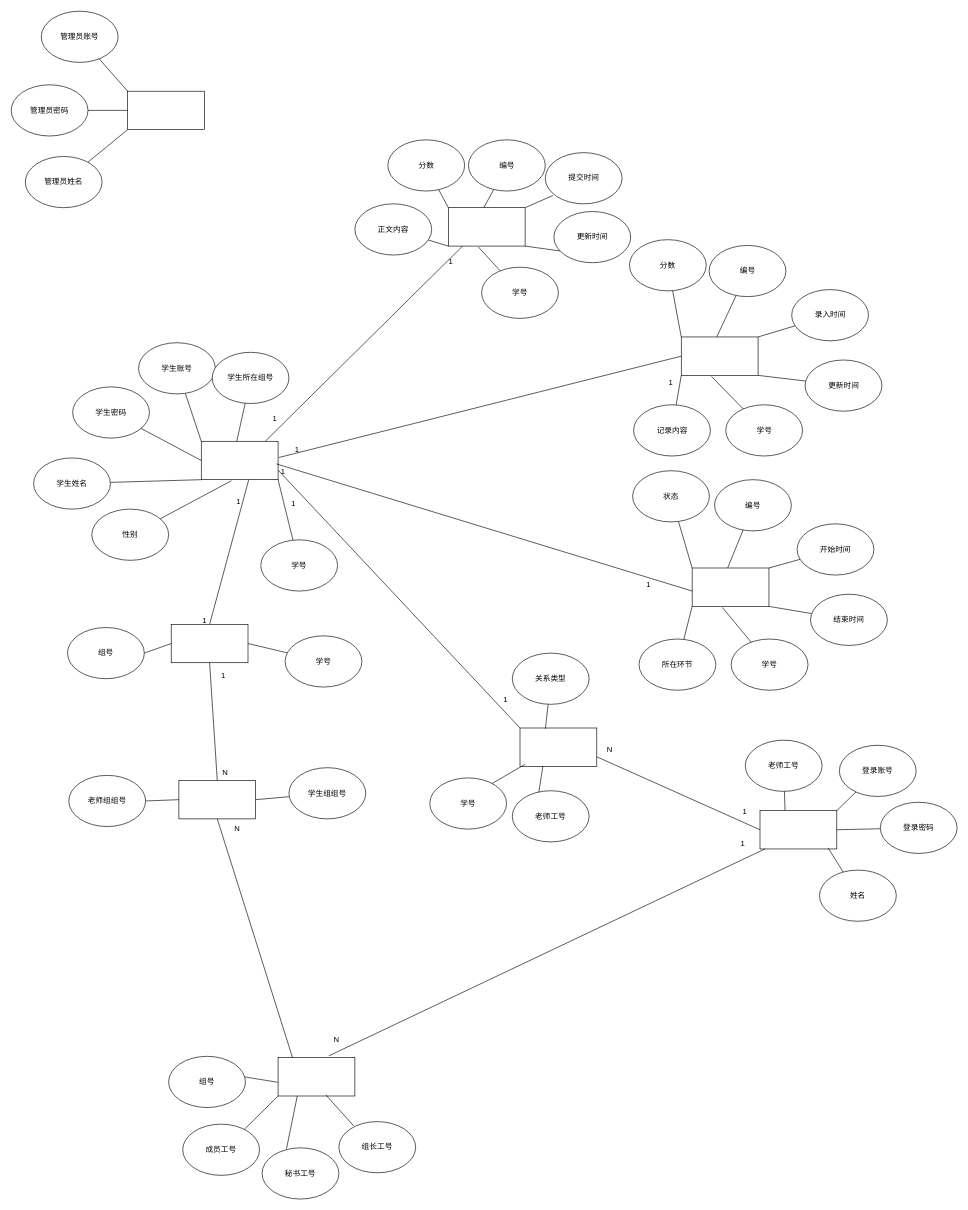
The diagram is 968 pixels wide and 1210 high, and some of its shapes have lost their labels. Each missing label, with the centre of its shape:
"学生" belongs at [239,460].
"学生组" belongs at [209,643].
"学生老师组关系" belongs at [217,799].
"师生关系" belongs at [558,746].
"文档" belongs at [486,226].
"环节状态" belongs at [730,586].
"老师" belongs at [798,829].
"老师组" belongs at [316,1076].
"评价记录" belongs at [719,355].
"超级管理员" belongs at [165,110].
